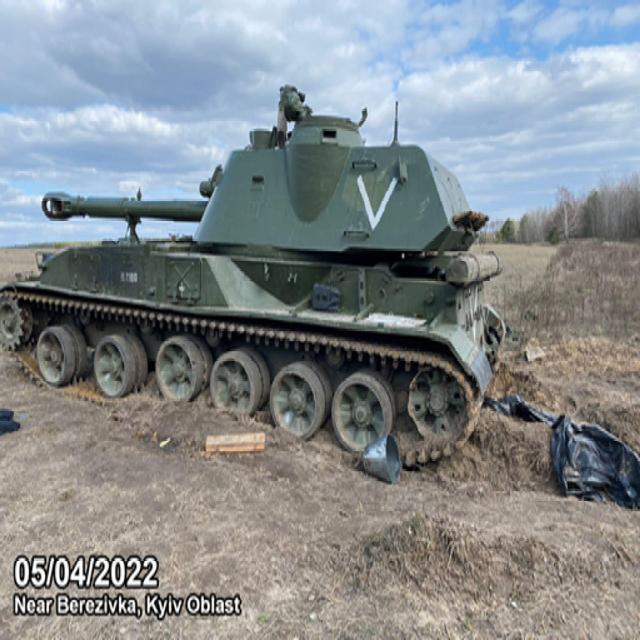ART: (2, 96, 508, 473)
